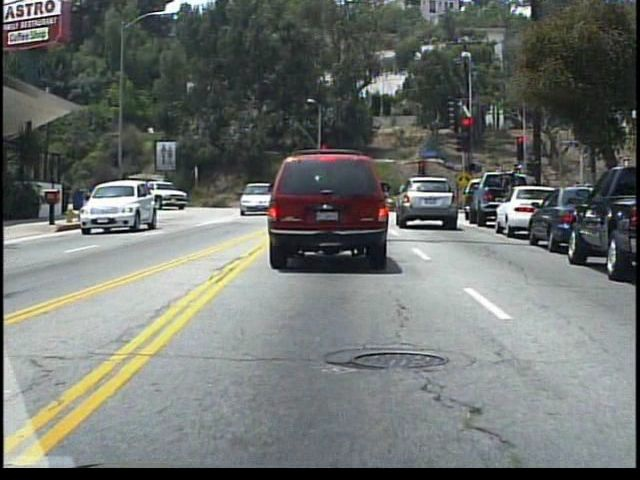person: (379, 185, 391, 212)
